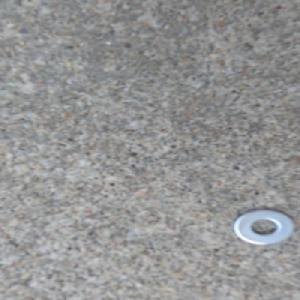Washer: (229, 207, 296, 246)
